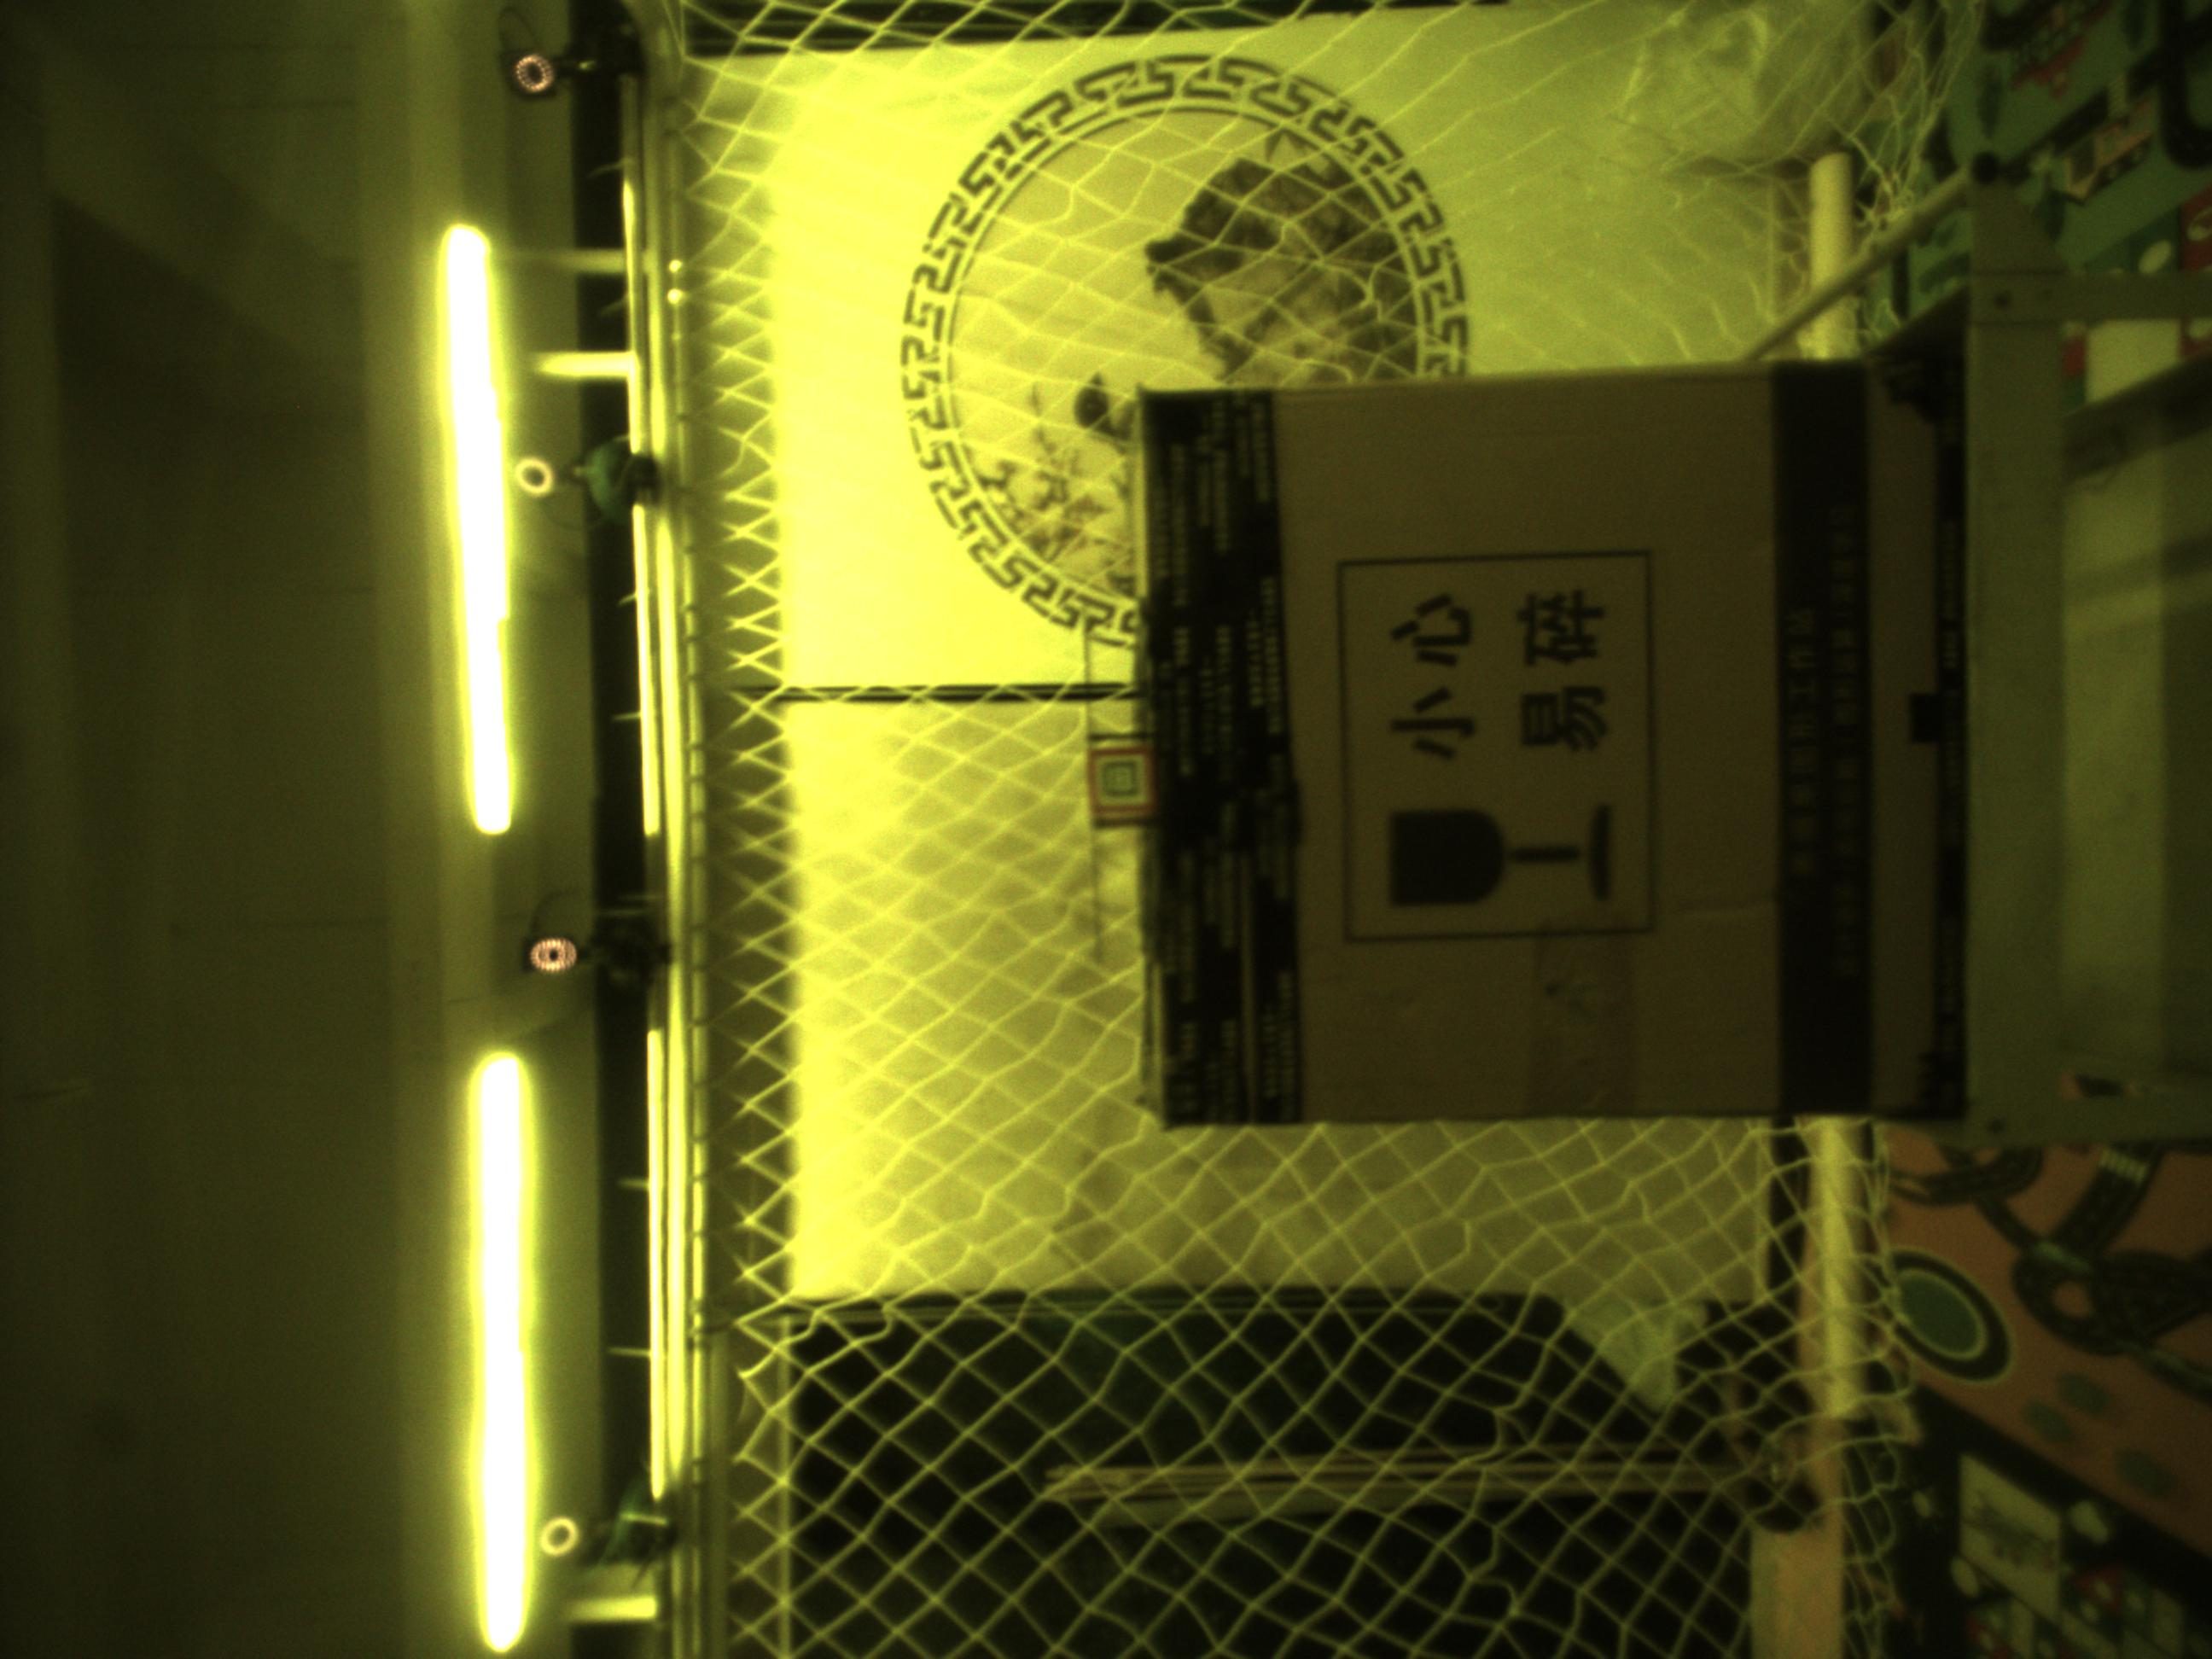outline: (1087, 748, 1155, 814)
